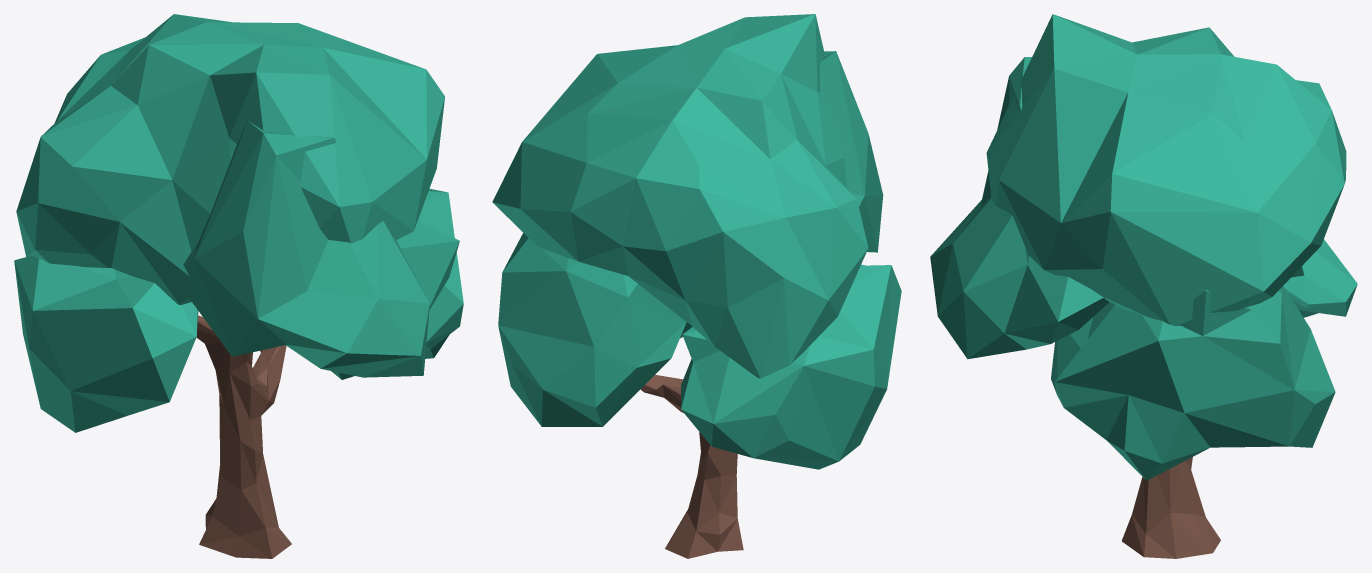
File: fantasy_plant_037.fbx
3 views of the same model, side by side, from view 1: azimuth 30°, elevation 25°; view 2: azimuth 150°, elevation 25°; view 3: azimuth 270°, elevation 25° (orthographic). The views are drawn at different scales.
Parts seen in each view (by area): view 1: fantasy_plant.037; view 2: fantasy_plant.037; view 3: fantasy_plant.037.
Boxes of the visible parts, x1=… form: fantasy_plant.037: x1=14, y1=14, x2=463, y2=558; fantasy_plant.037: x1=492, y1=14, x2=901, y2=558; fantasy_plant.037: x1=930, y1=14, x2=1357, y2=558.
Size of the model in its own units: 1060 by 1367 by 1045.
Materials: 1 (1 with a texture image).
